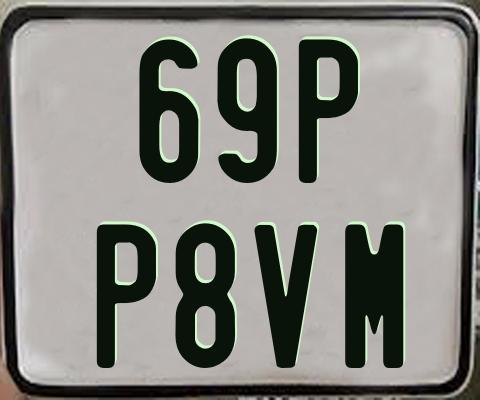6: (139, 37, 198, 185)
8: (173, 223, 237, 374)
9: (217, 36, 280, 187)
M: (342, 222, 405, 372)
P: (298, 37, 361, 185), (97, 221, 156, 365)
V: (254, 224, 320, 368)
